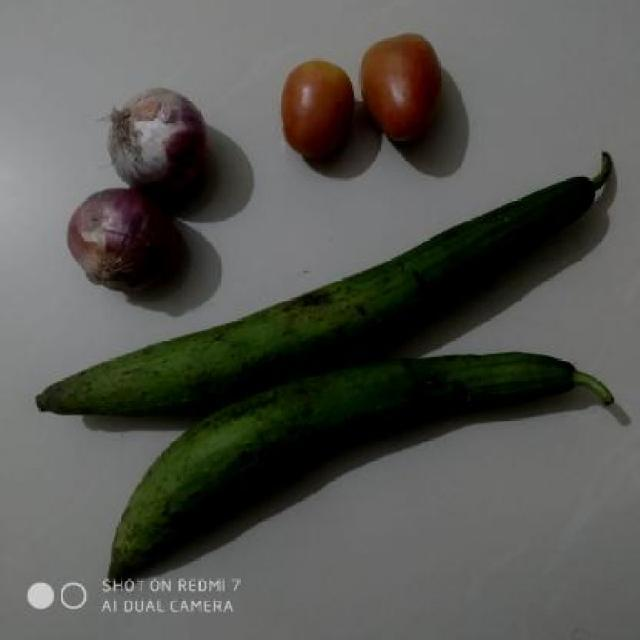Onion: (63, 192, 186, 296), (101, 88, 216, 198)
Sponge Gourd: (23, 342, 634, 584)
Tomato: (360, 30, 448, 142), (274, 52, 360, 160)
